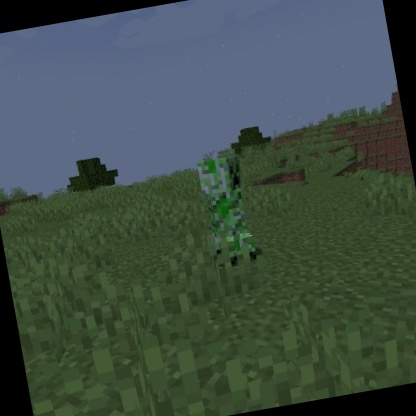creeper: (190, 151, 267, 273)
